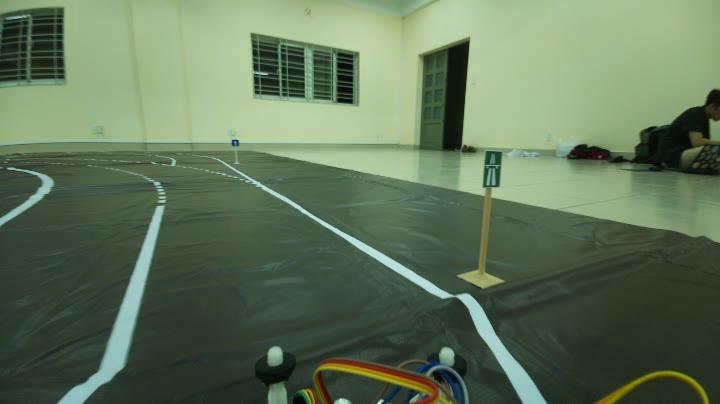highway_entry: (470, 144, 508, 196)
